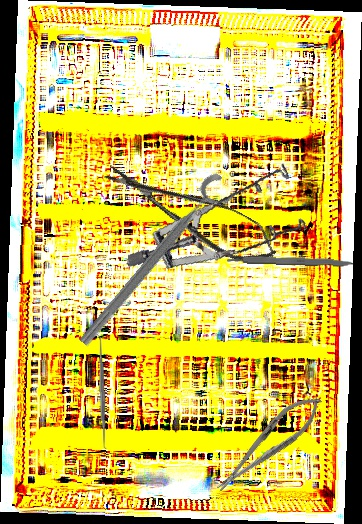Fixation Ring: (73, 169, 241, 359)
Micro Scissor: (98, 146, 285, 277)
Needle Holder: (207, 386, 330, 501)
Scalpel Handle: (226, 253, 355, 268)
Spatula Surgical: (93, 333, 111, 450)
Speculum: (125, 134, 319, 302)
